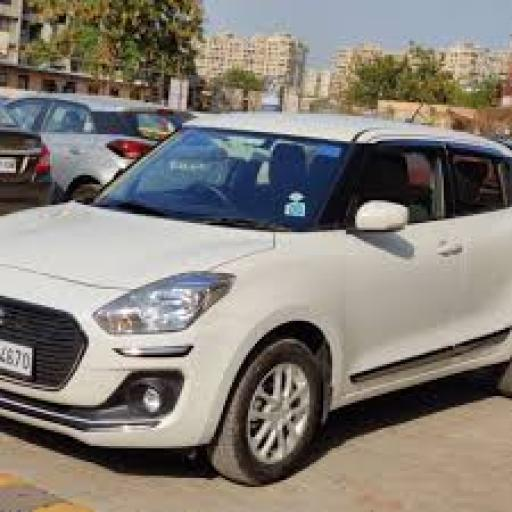car: (2, 91, 508, 490)
